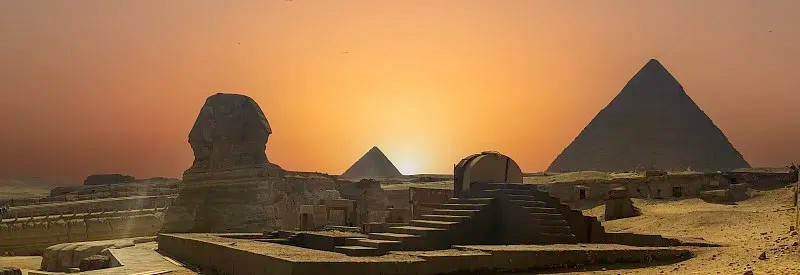Pyramid: (545, 59, 753, 171), (339, 146, 402, 179)
